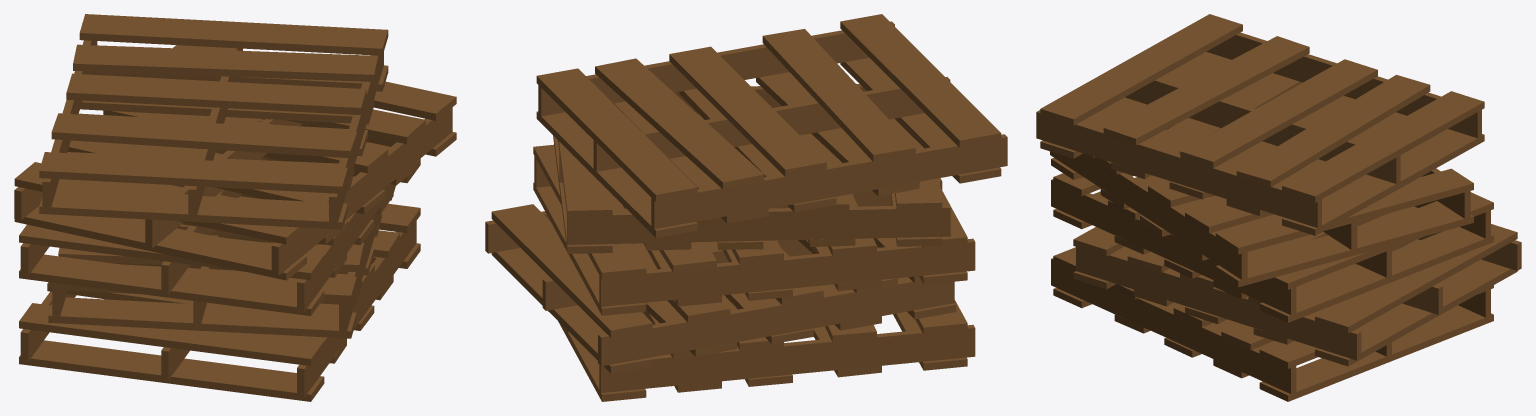
Rendered from Palet_2.fbx.
The picture shows the model from 3 angles, left to right: view 1: azimuth 30°, elevation 25°; view 2: azimuth 150°, elevation 25°; view 3: azimuth 270°, elevation 25°; orthographic projection. The views are drawn at different scales.
Visible parts, largest first — view 1: Palet-2; view 2: Palet-2; view 3: Palet-2.
Part boxes in pixels (bbox=[...]): Palet-2: bbox=[14, 14, 456, 401]; Palet-2: bbox=[485, 14, 1007, 401]; Palet-2: bbox=[1036, 14, 1521, 401].
Bounding box in the file's own units: 3.21 × 1.51 × 3.36.
